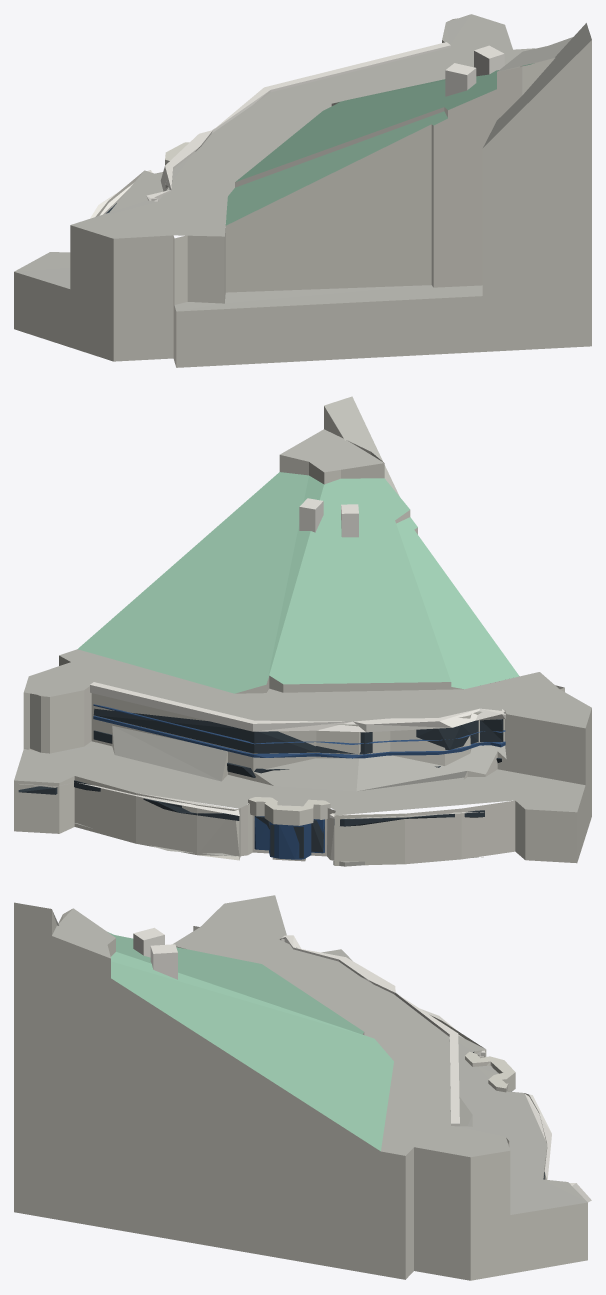
File: tolstraat-160-tempel.lod1.glb
3 renders of one model, top to bottom at view 1: azimuth 30°, elevation 25°; view 2: azimuth 150°, elevation 25°; view 3: azimuth 270°, elevation 25°, orthographic. The views are drawn at different scales.
Parts seen in each view (by area): view 1: tolstraat-160-tempel; view 2: tolstraat-160-tempel; view 3: tolstraat-160-tempel.
Boxes of the visible parts, box(x1,y1,x2,y2) form: tolstraat-160-tempel: box(14, 14, 591, 367); tolstraat-160-tempel: box(14, 396, 591, 866); tolstraat-160-tempel: box(14, 895, 591, 1280).
Bounding box in the file's own units: 36.19 × 19.11 × 32.32.
